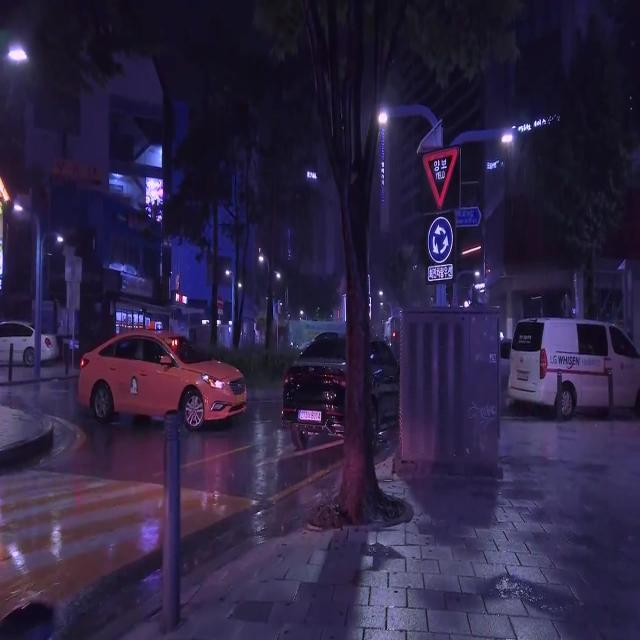Car: (77, 320, 244, 430), (508, 313, 637, 419), (283, 329, 400, 435)
